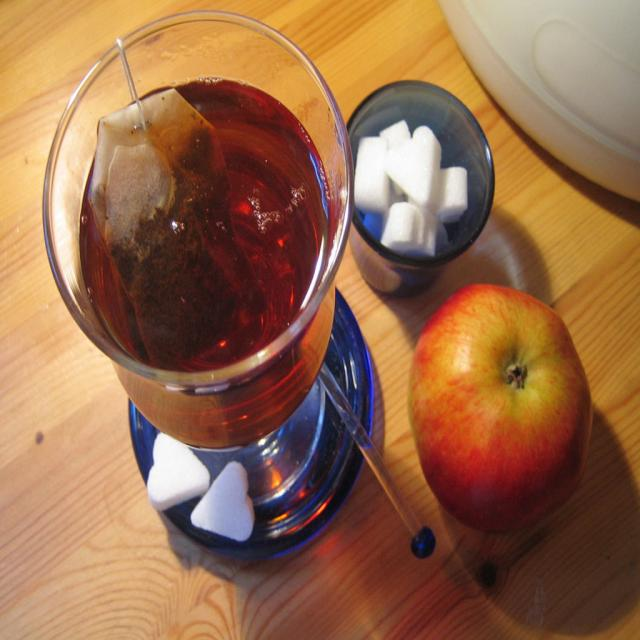Healty Apple: (407, 281, 588, 534)
